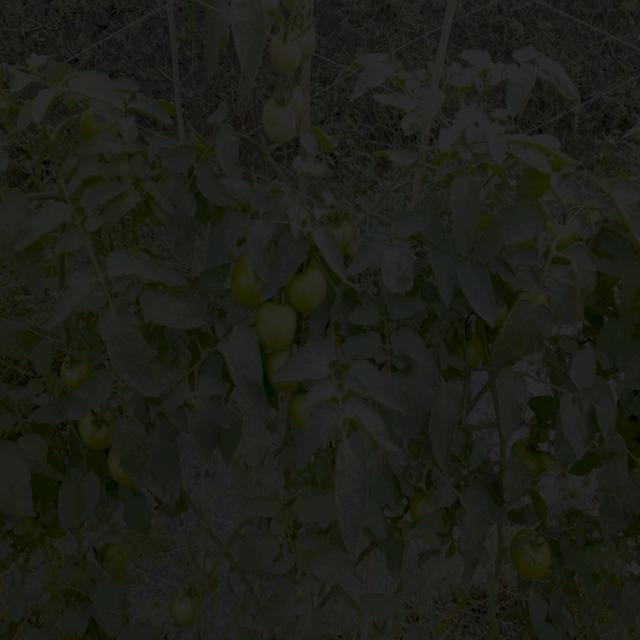tomato: (250, 303, 299, 349), (260, 94, 298, 145), (516, 533, 558, 579), (287, 269, 328, 312), (269, 31, 303, 74), (108, 458, 140, 502), (78, 407, 112, 443), (60, 350, 91, 383), (173, 586, 200, 623), (291, 388, 314, 431), (233, 256, 256, 298), (409, 493, 436, 522), (553, 218, 574, 255), (469, 334, 487, 371), (329, 219, 349, 251), (81, 111, 107, 135)
